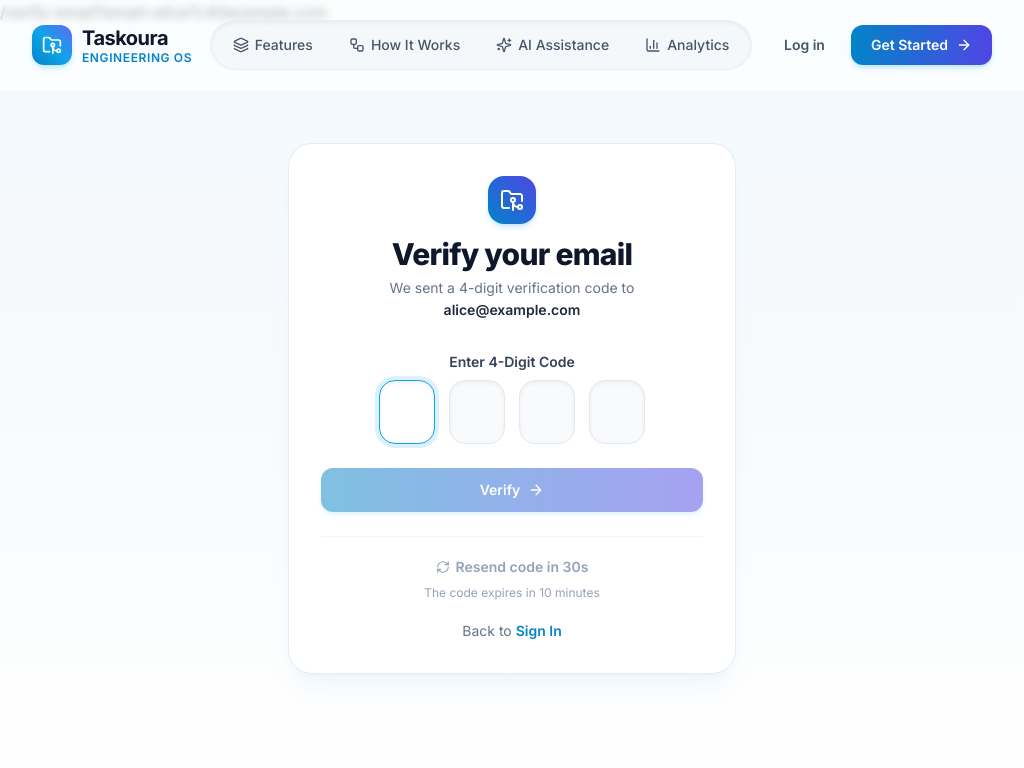
PHASE 6 (frontend): F6 Email Screens & OTP Hardening › VerifyEmailPage › on OTP_ATTEMPTS_EXCEEDED: clears boxes, shows message and enables "Request a new code"
Step 1. Type "9" into the field named "Digit 1" → (407, 412), box [379,380,435,444]
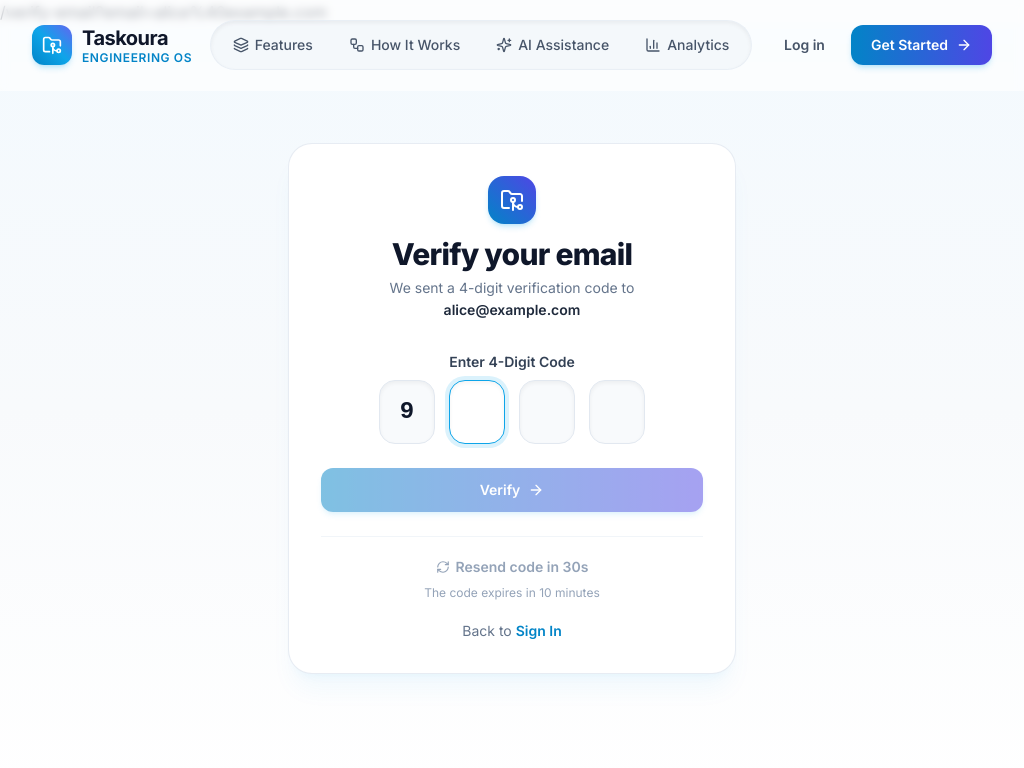
Step 2. Type "9" into the field named "Digit 2" → (477, 412), box [449,380,505,444]
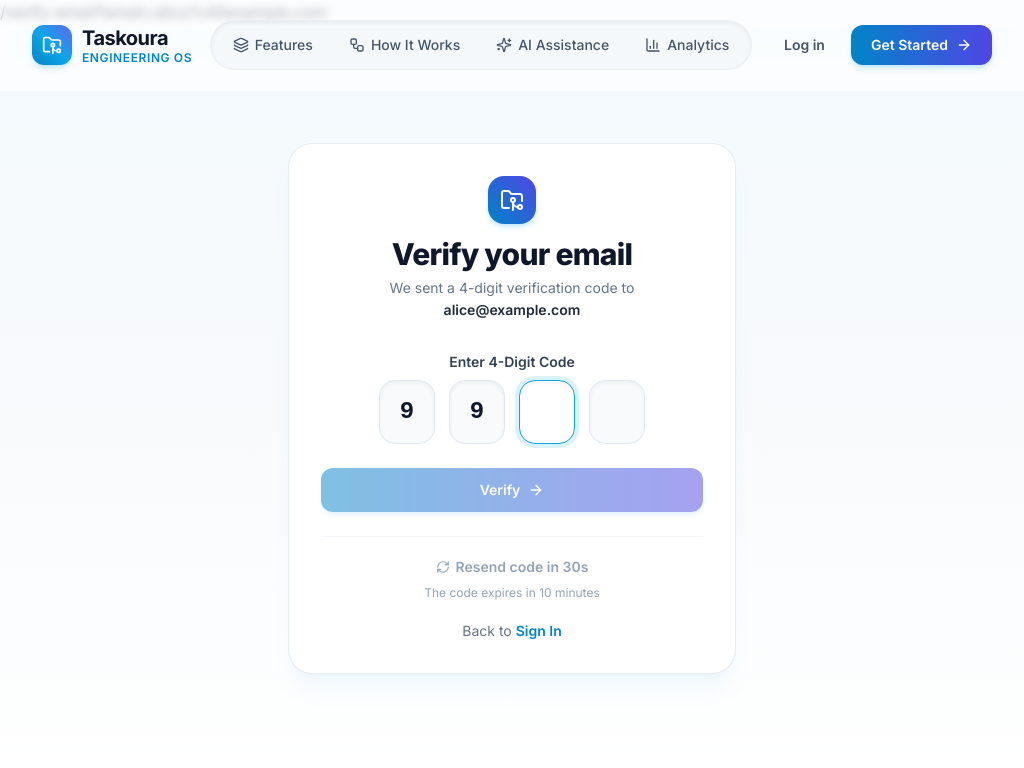
Step 3. Type "9" into the field named "Digit 3" → (547, 412), box [519,380,575,444]
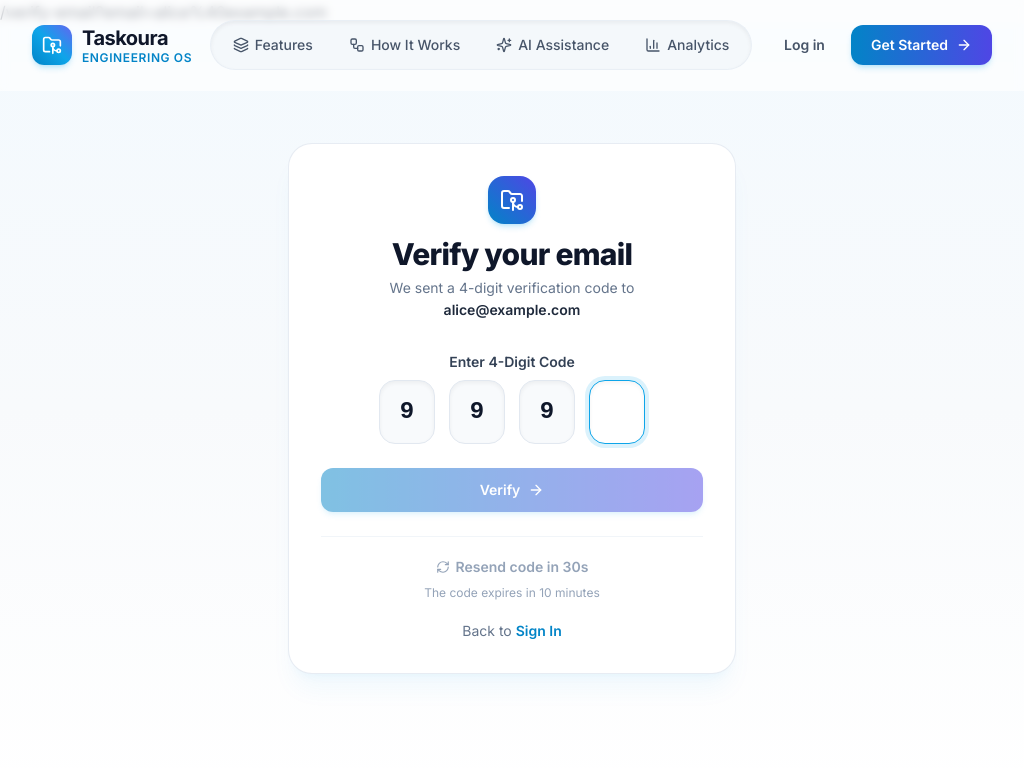
Step 4. Type "9" into the field named "Digit 4" → (617, 412), box [589,380,645,444]
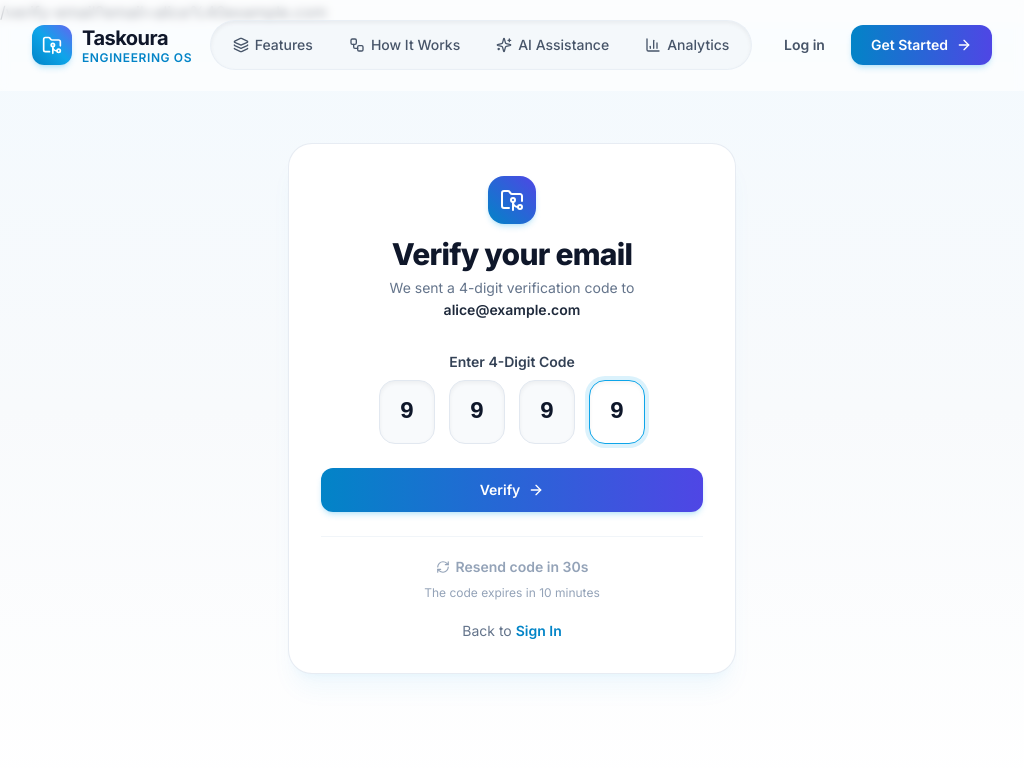
Step 5. Click the button "Verify" → (512, 490), box [321,468,703,512]
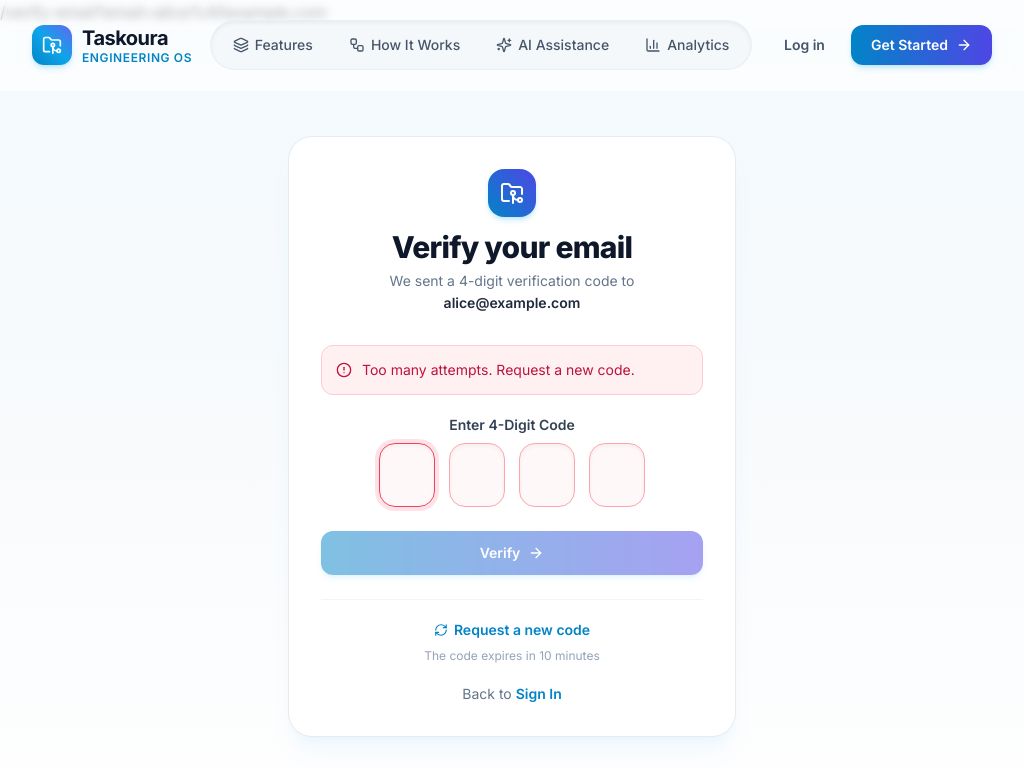
Check: the text "Too many attempts. Request a new code." is shown, box [362,360,635,380]
Check: the field named "Digit 1" is empty, box [379,443,435,507]
Check: the field named "Digit 2" is empty, box [449,443,505,507]
